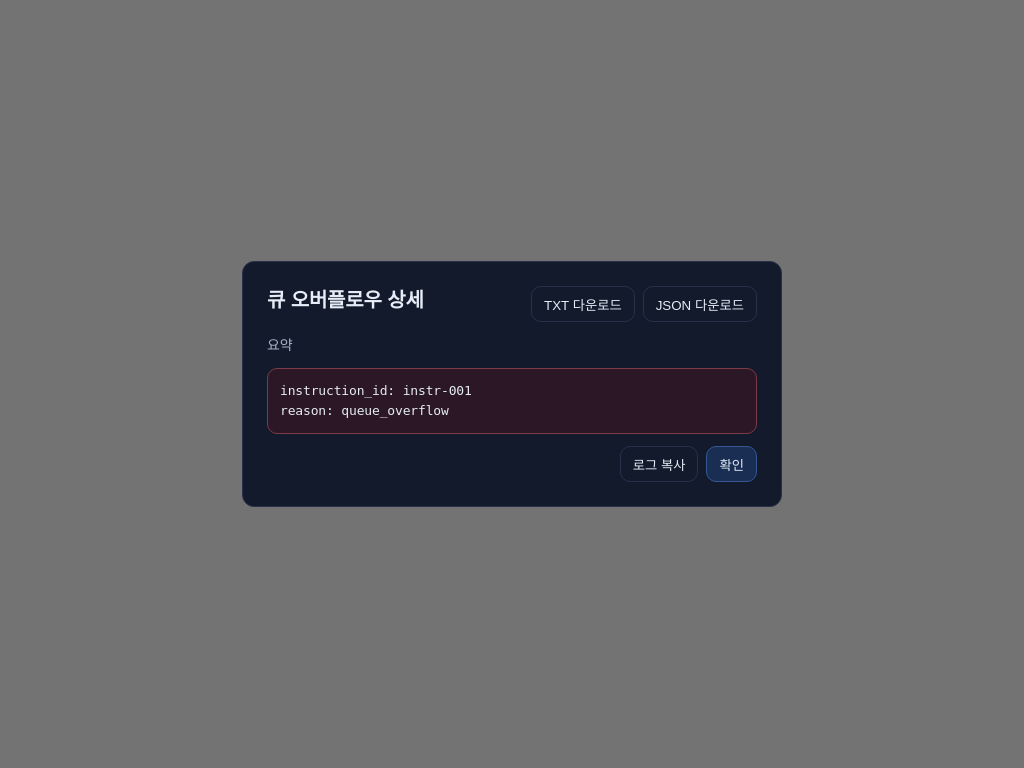
Test: ErrorLogModal › 클립보드 복사 실패 시 실패 피드백을 노출한다
Click the button "로그 복사" at [659, 464], box [620,446,698,482]
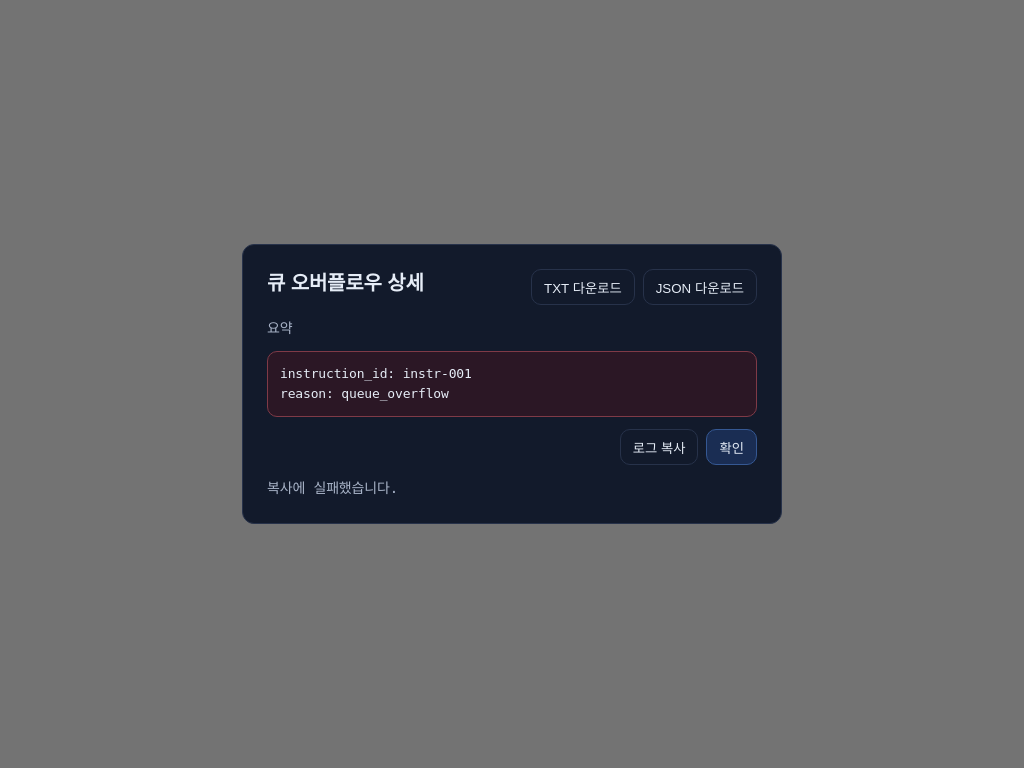
expect the text "복사에 실패했습니다." is shown: met, box [267,480,398,496]
